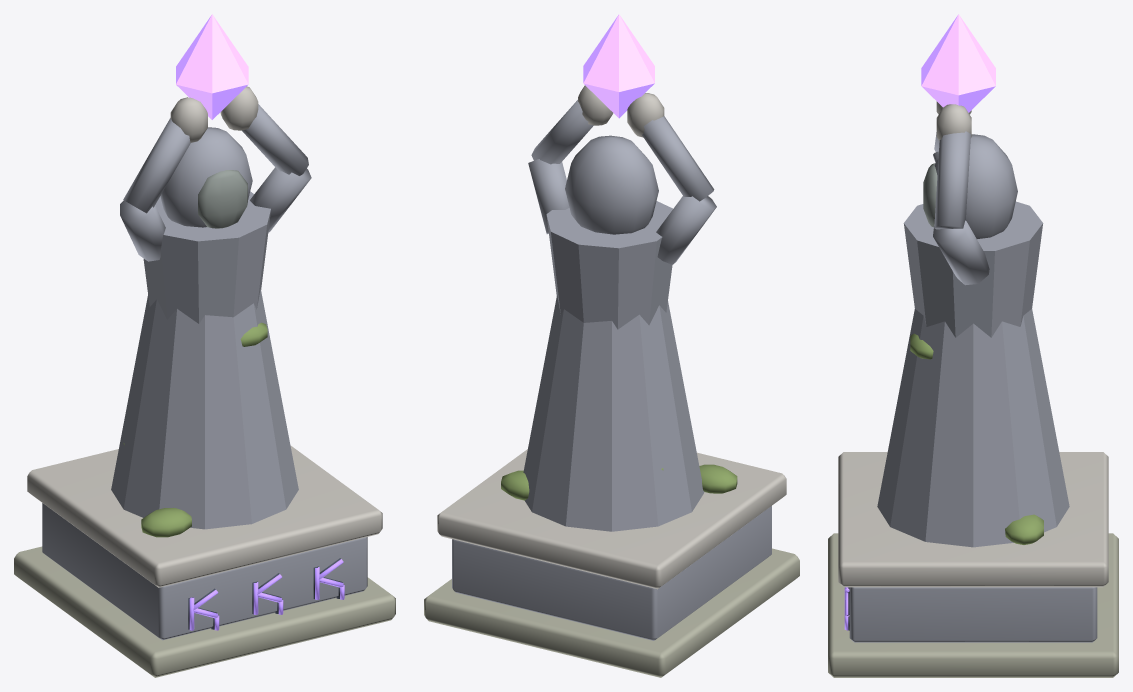
Rendered from guardian_statue.glb.
3 views of the same model, side by side, from view 1: azimuth 30°, elevation 25°; view 2: azimuth 150°, elevation 25°; view 3: azimuth 270°, elevation 25° (orthographic). The views are drawn at different scales.
Parts seen in each view (by area): view 1: Guardian_robe, Guardian_plinth_cap, Guardian_runic_plinth, Guardian_plinth_base, Guardian_stone_torso, Guardian_luminous_crystal, Guardian_hood, Guardian_raised_forearm, Guardian_shadowed_face, Guardian_raised_forearm.001, Guardian_raised_upper_arm.001, Guardian_raised_upper_arm (+3 smaller); view 2: Guardian_robe, Guardian_plinth_cap, Guardian_runic_plinth, Guardian_plinth_base, Guardian_stone_torso, Guardian_hood, Guardian_luminous_crystal, Guardian_raised_forearm, Guardian_raised_upper_arm, Guardian_raised_forearm.001, Guardian_raised_upper_arm.001, Guardian_cradling_hand (+3 smaller); view 3: Guardian_robe, Guardian_plinth_cap, Guardian_runic_plinth, Guardian_plinth_base, Guardian_stone_torso, Guardian_luminous_crystal, Guardian_hood, Guardian_raised_forearm.001, Guardian_raised_upper_arm.001, Guardian_cradling_hand.001, decor_Guardian_moss.001, Guardian_shadowed_face.
Boxes of the visible parts, <box> form: Guardian_robe: <box>111,289,298,529</box>; Guardian_plinth_cap: <box>27,446,382,587</box>; Guardian_runic_plinth: <box>42,503,367,640</box>; Guardian_plinth_base: <box>14,546,395,677</box>; Guardian_stone_torso: <box>143,191,270,323</box>; Guardian_luminous_crystal: <box>176,14,248,119</box>; Guardian_hood: <box>160,127,252,227</box>; Guardian_raised_forearm: <box>123,118,190,213</box>; Guardian_shadowed_face: <box>198,170,247,228</box>; Guardian_raised_forearm.001: <box>242,104,308,175</box>; Guardian_raised_upper_arm.001: <box>250,167,311,232</box>; Guardian_raised_upper_arm: <box>120,200,165,261</box>; Guardian_robe: <box>523,295,704,531</box>; Guardian_plinth_cap: <box>437,449,786,589</box>; Guardian_runic_plinth: <box>452,506,771,640</box>; Guardian_plinth_base: <box>424,548,799,677</box>; Guardian_stone_torso: <box>546,201,672,329</box>; Guardian_hood: <box>565,135,658,234</box>; Guardian_luminous_crystal: <box>583,14,654,118</box>; Guardian_raised_forearm: <box>642,116,714,201</box>; Guardian_raised_upper_arm: <box>656,196,716,264</box>; Guardian_raised_forearm.001: <box>531,100,593,164</box>; Guardian_raised_upper_arm.001: <box>528,159,569,234</box>; Guardian_cradling_hand: <box>627,93,664,137</box>; Guardian_robe: <box>877,309,1069,547</box>; Guardian_plinth_cap: <box>838,452,1108,587</box>; Guardian_runic_plinth: <box>849,587,1097,642</box>; Guardian_plinth_base: <box>828,533,1118,677</box>; Guardian_stone_torso: <box>903,201,1043,337</box>; Guardian_luminous_crystal: <box>921,14,995,112</box>; Guardian_hood: <box>934,134,1017,238</box>; Guardian_raised_forearm.001: <box>934,131,970,229</box>; Guardian_raised_upper_arm.001: <box>933,220,989,285</box>; Guardian_cradling_hand.001: <box>936,104,971,140</box>; decor_Guardian_moss.001: <box>1005,514,1043,544</box>; Guardian_shadowed_face: <box>923,163,937,227</box>.
Bounding box in the file's own units: 1.96 × 4.5 × 1.96.
